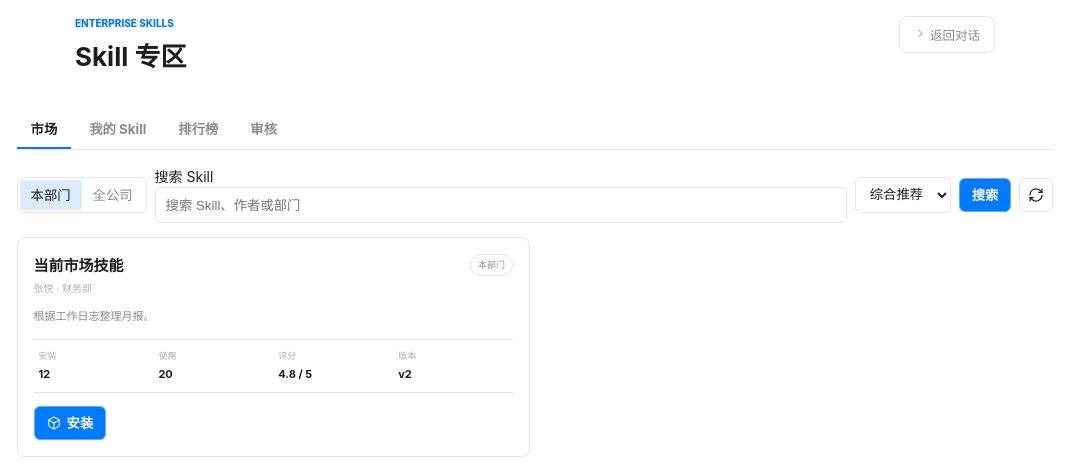
Scenario: 切走审核页后到达的旧审核结果不能覆盖当前市场，再次进入能加载新审核结果
Check: the heading "当前市场技能" is shown, box [34, 254, 124, 278]
Click the button "审核" at (264, 129), box [236, 110, 291, 149]
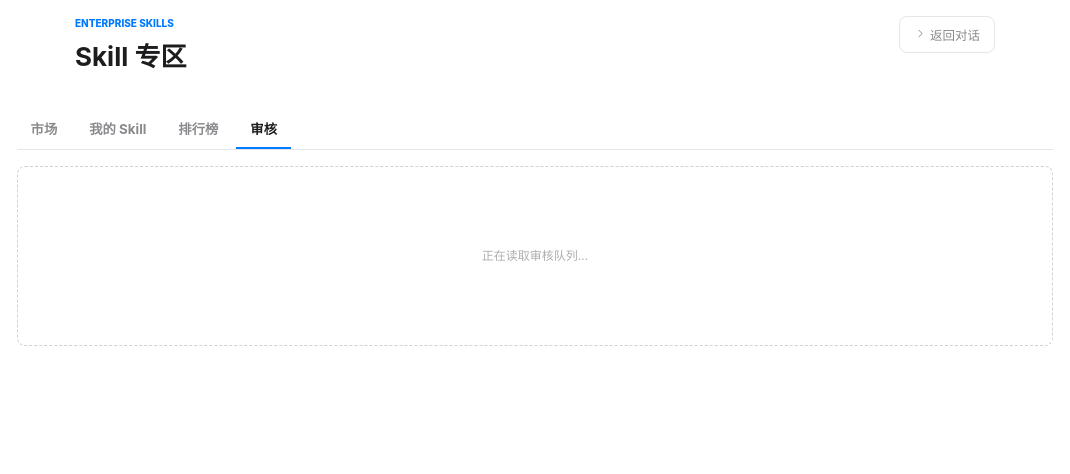
Click the button "市场" at (44, 129), box [17, 110, 71, 149]
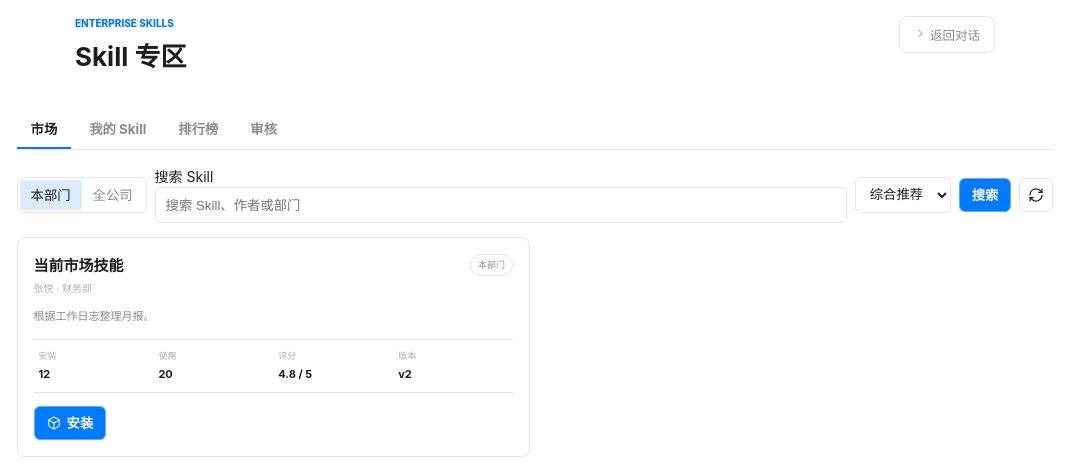
Check: the heading "当前市场技能" is shown, box [34, 254, 124, 278]
Click the button "审核" at (264, 129), box [236, 110, 291, 149]
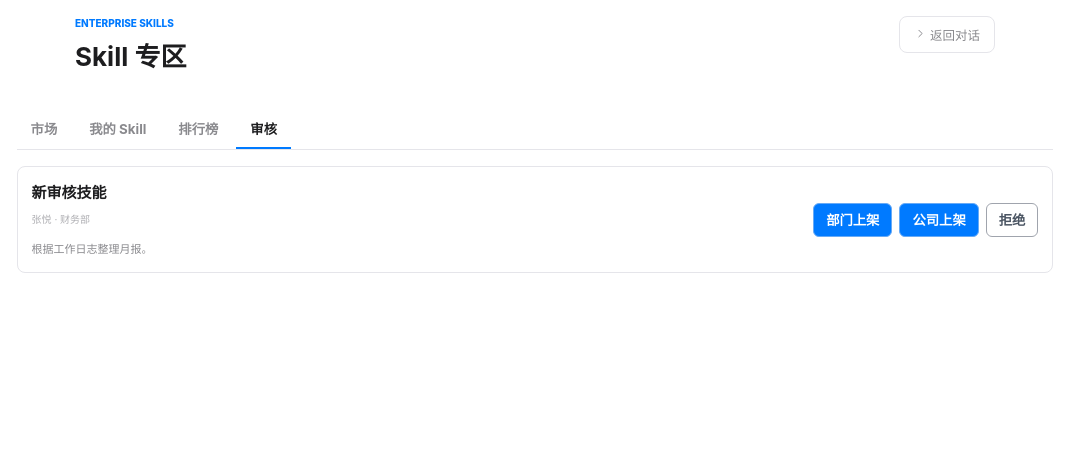
Check: the heading "新审核技能" is shown, box [32, 183, 107, 202]
